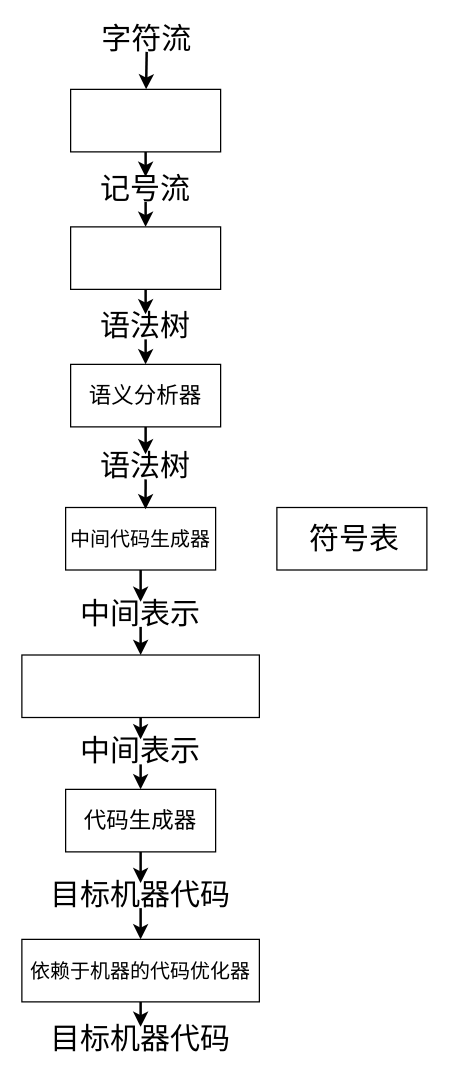
The diagram is 449 pixels wide and 1079 high, and some of its shapes have lost their labels. The centre of each missing label's shape, as x and y in pixels:
独立于机器的代码优化器: (x=140, y=686)
词法分析器: (x=145, y=120)
语法分析器: (x=145, y=257)
